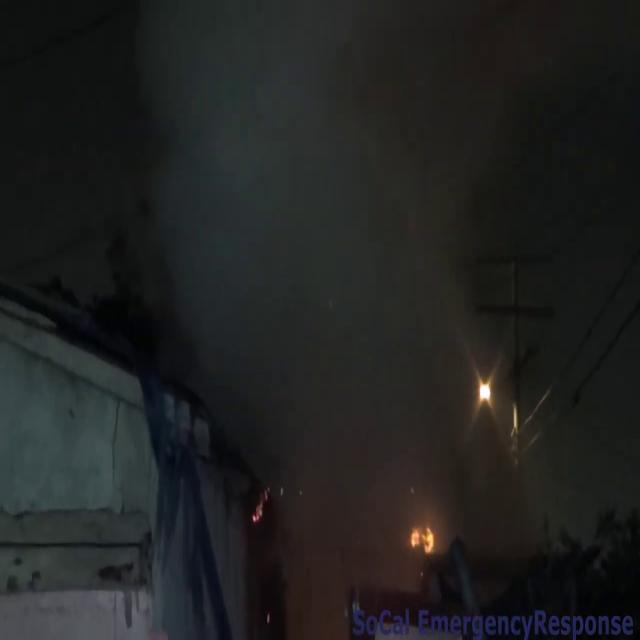Fire: (407, 518, 439, 562)
Smoke: (113, 1, 508, 552)
